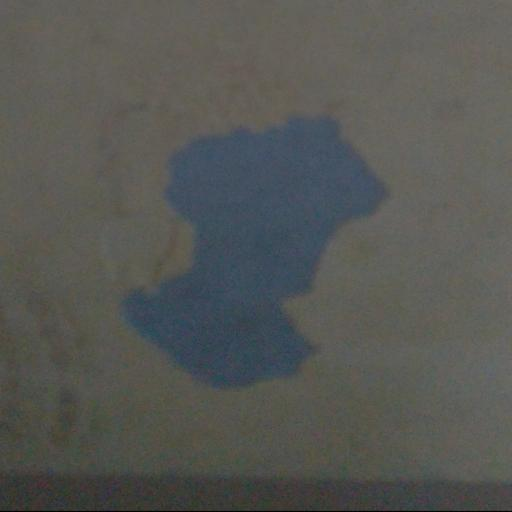peeling: (118, 122, 390, 400)
